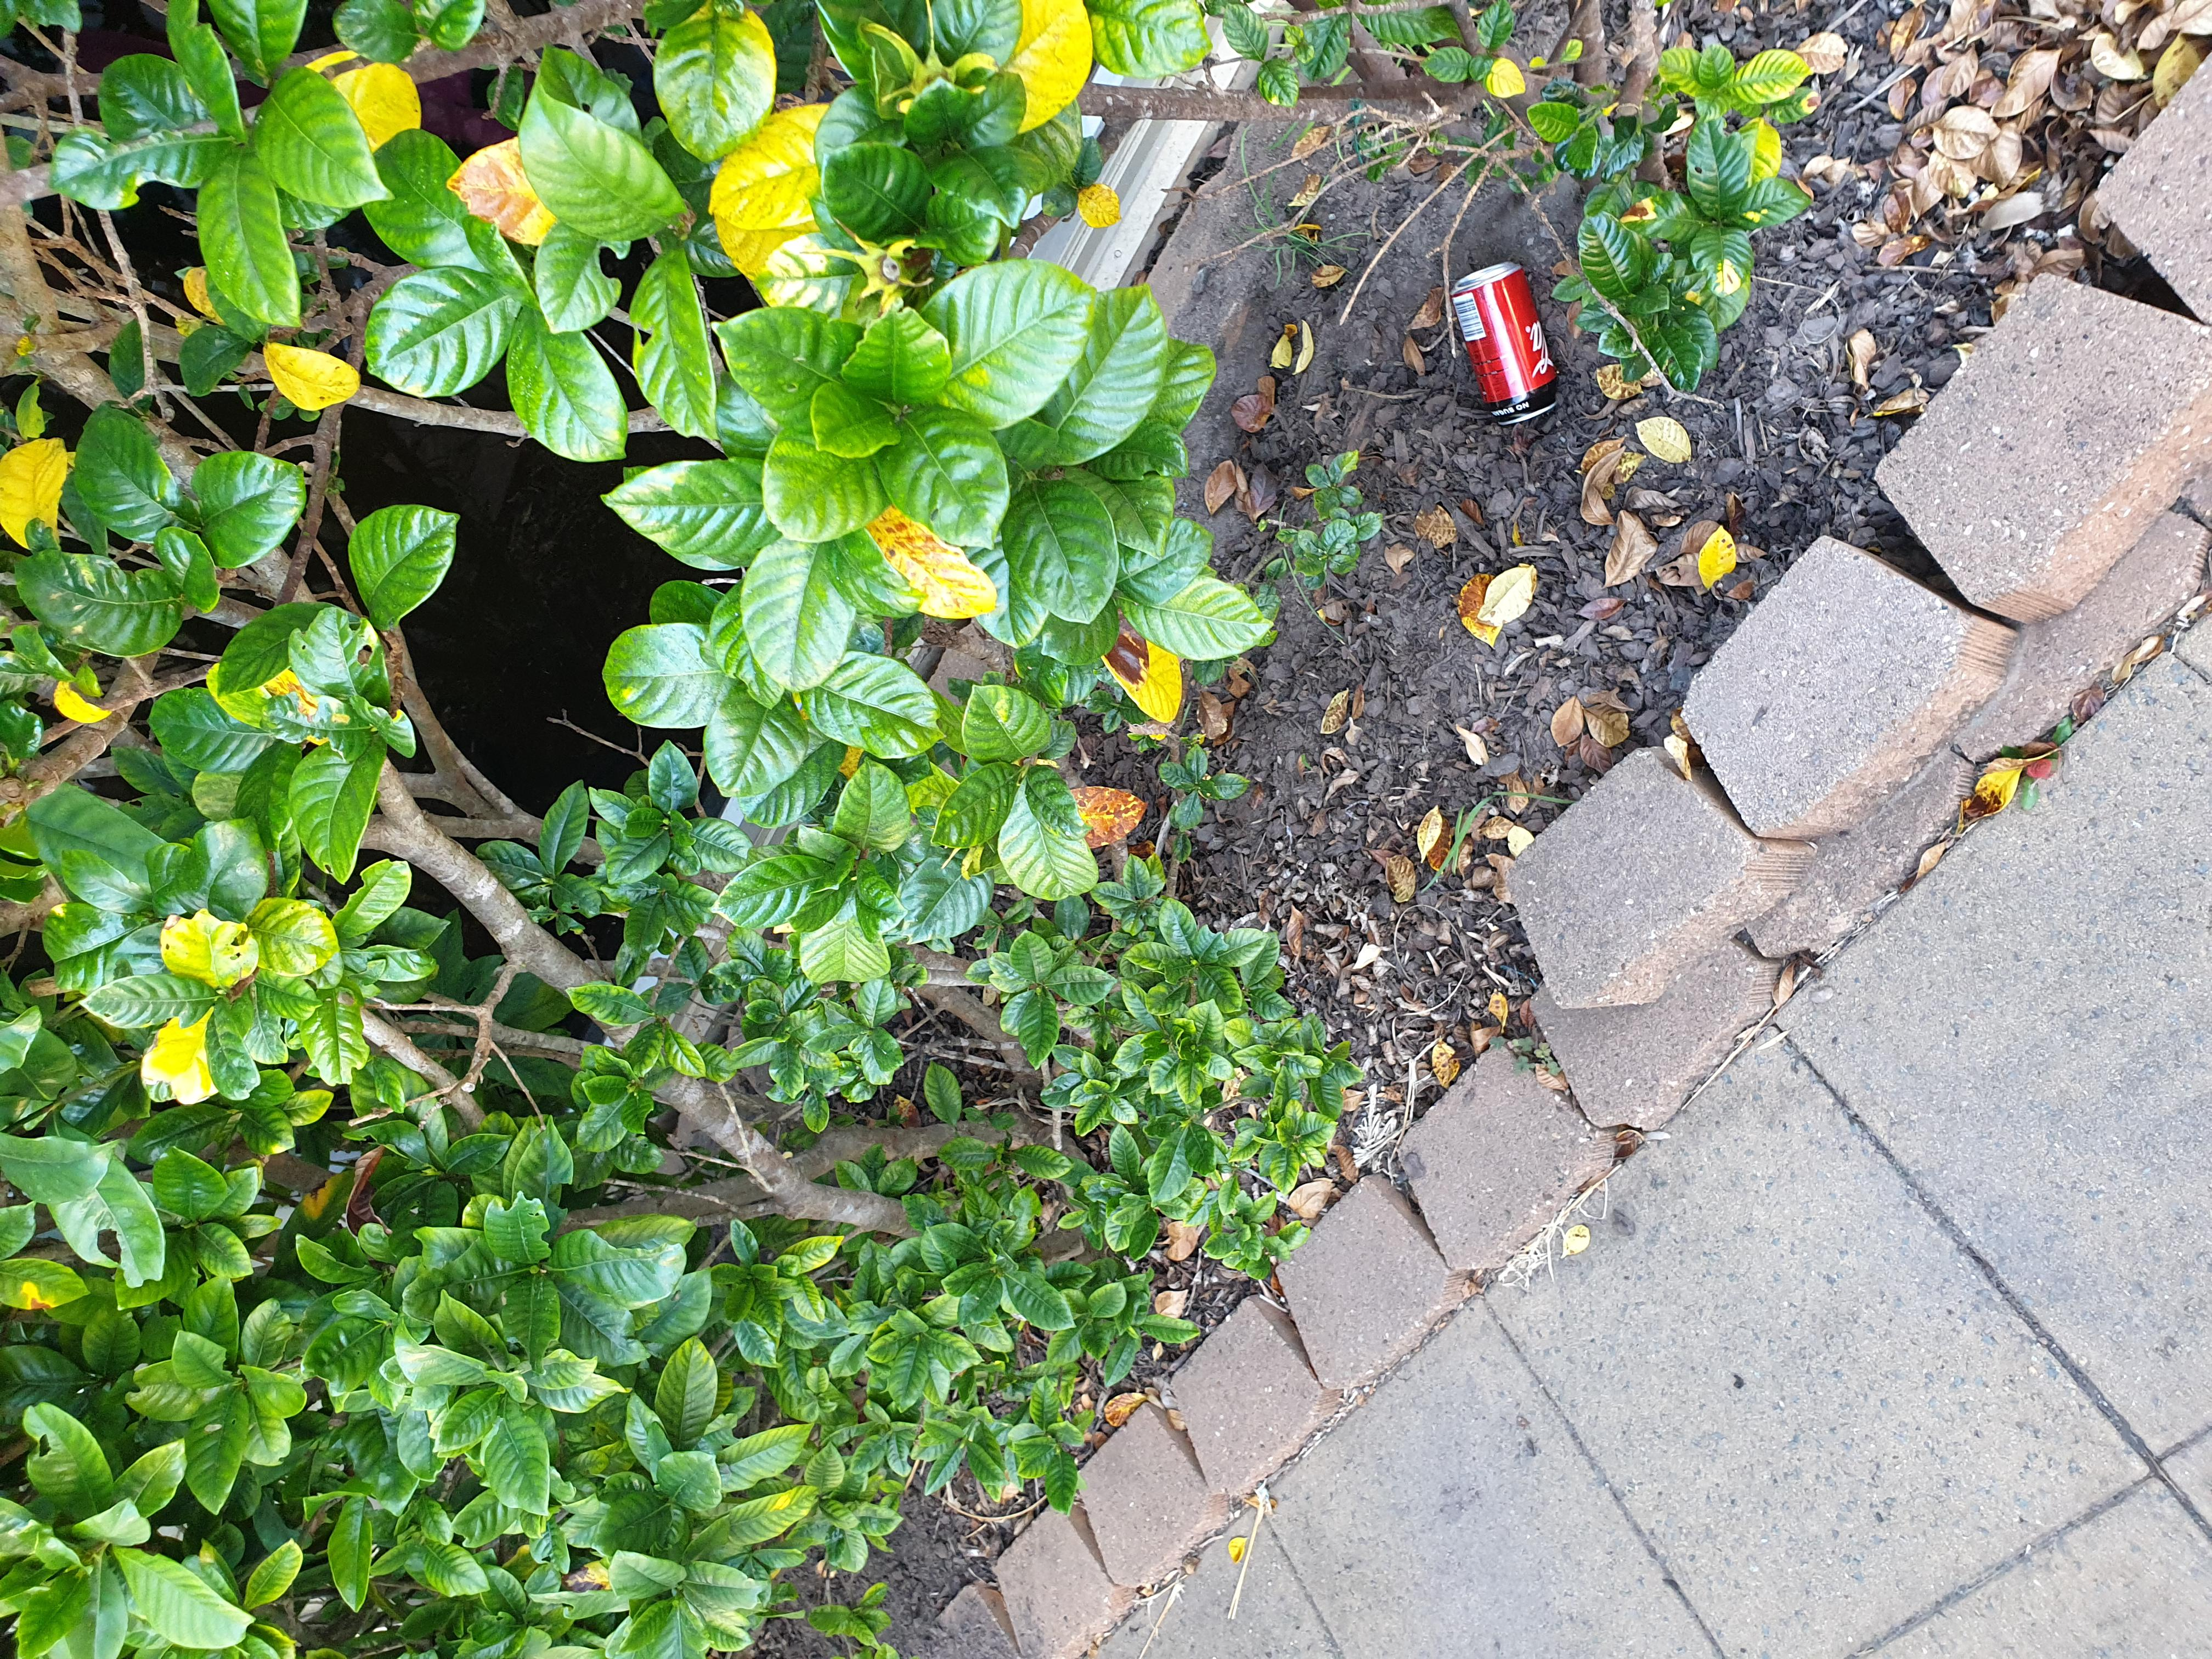Plastic Bottle: (1453, 260, 1561, 427)
